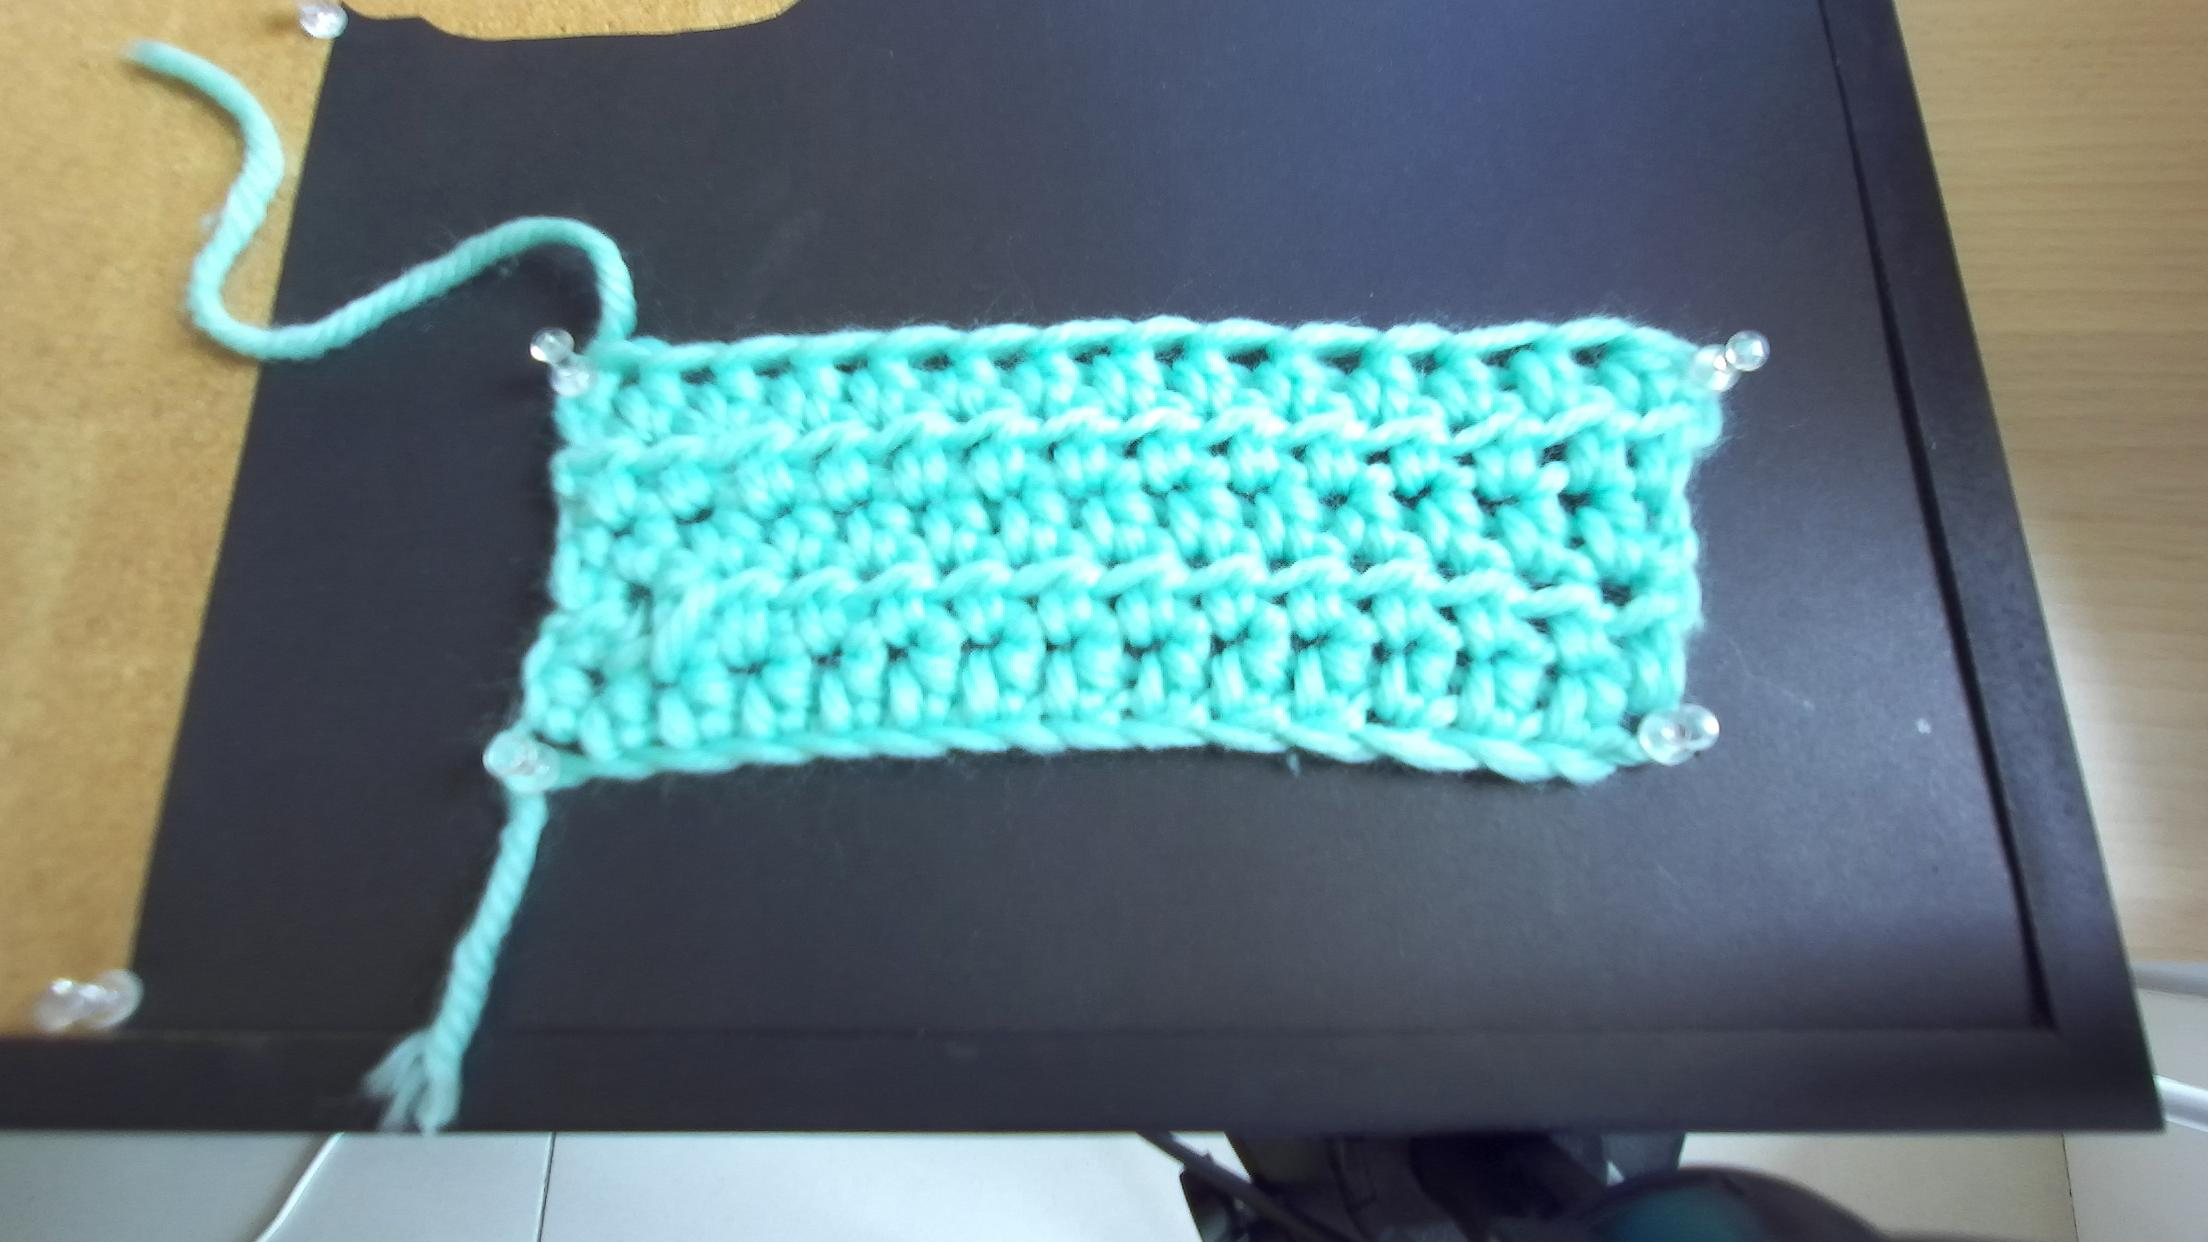hole: (1477, 341, 1538, 370), (1224, 344, 1272, 373), (1316, 349, 1363, 378), (1068, 338, 1112, 365), (1154, 340, 1187, 375), (751, 359, 799, 382), (908, 350, 957, 373), (990, 349, 1031, 375), (1573, 343, 1611, 370), (1406, 350, 1442, 376), (833, 355, 869, 378), (619, 365, 641, 396), (681, 367, 716, 387)
swatch: (488, 318, 1764, 793)
